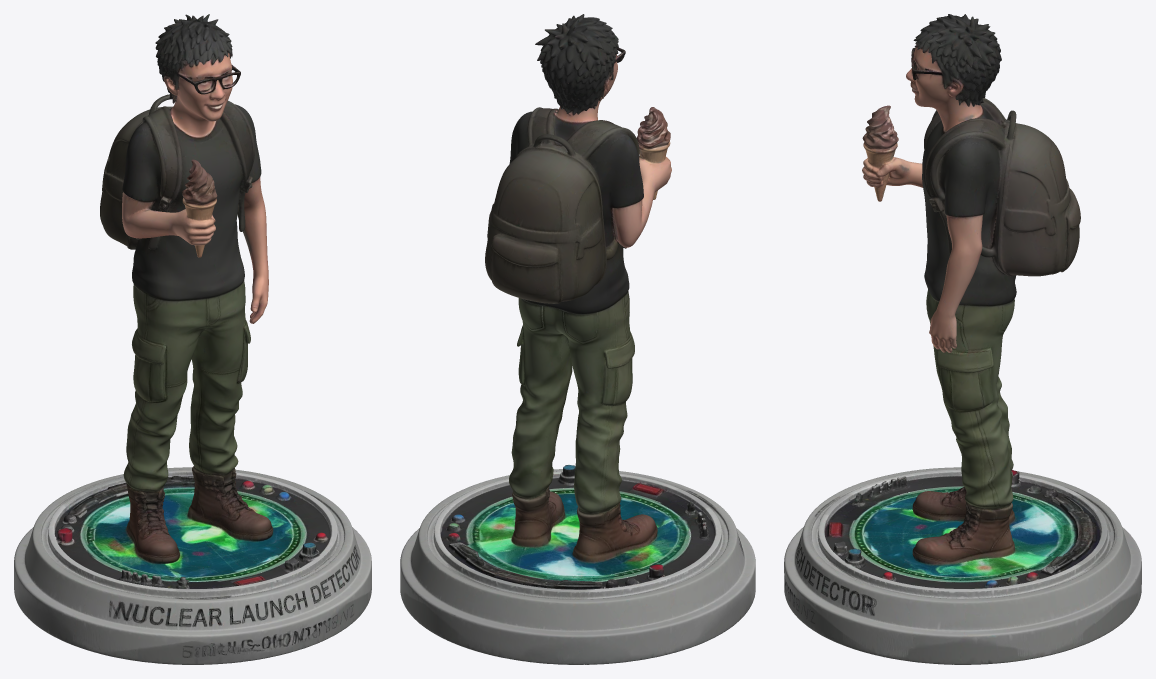
File: nuclear_launch_detector.glb
3 renders of one model, left to right at view 1: azimuth 30°, elevation 25°; view 2: azimuth 150°, elevation 25°; view 3: azimuth 270°, elevation 25°, orthographic.
Size of the model in its own units: 1.08 by 1.9 by 1.08.
Materials: 1 (1 with a texture image).
